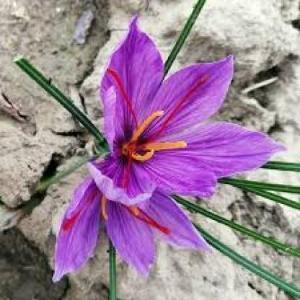Saffron: (54, 27, 287, 280)
